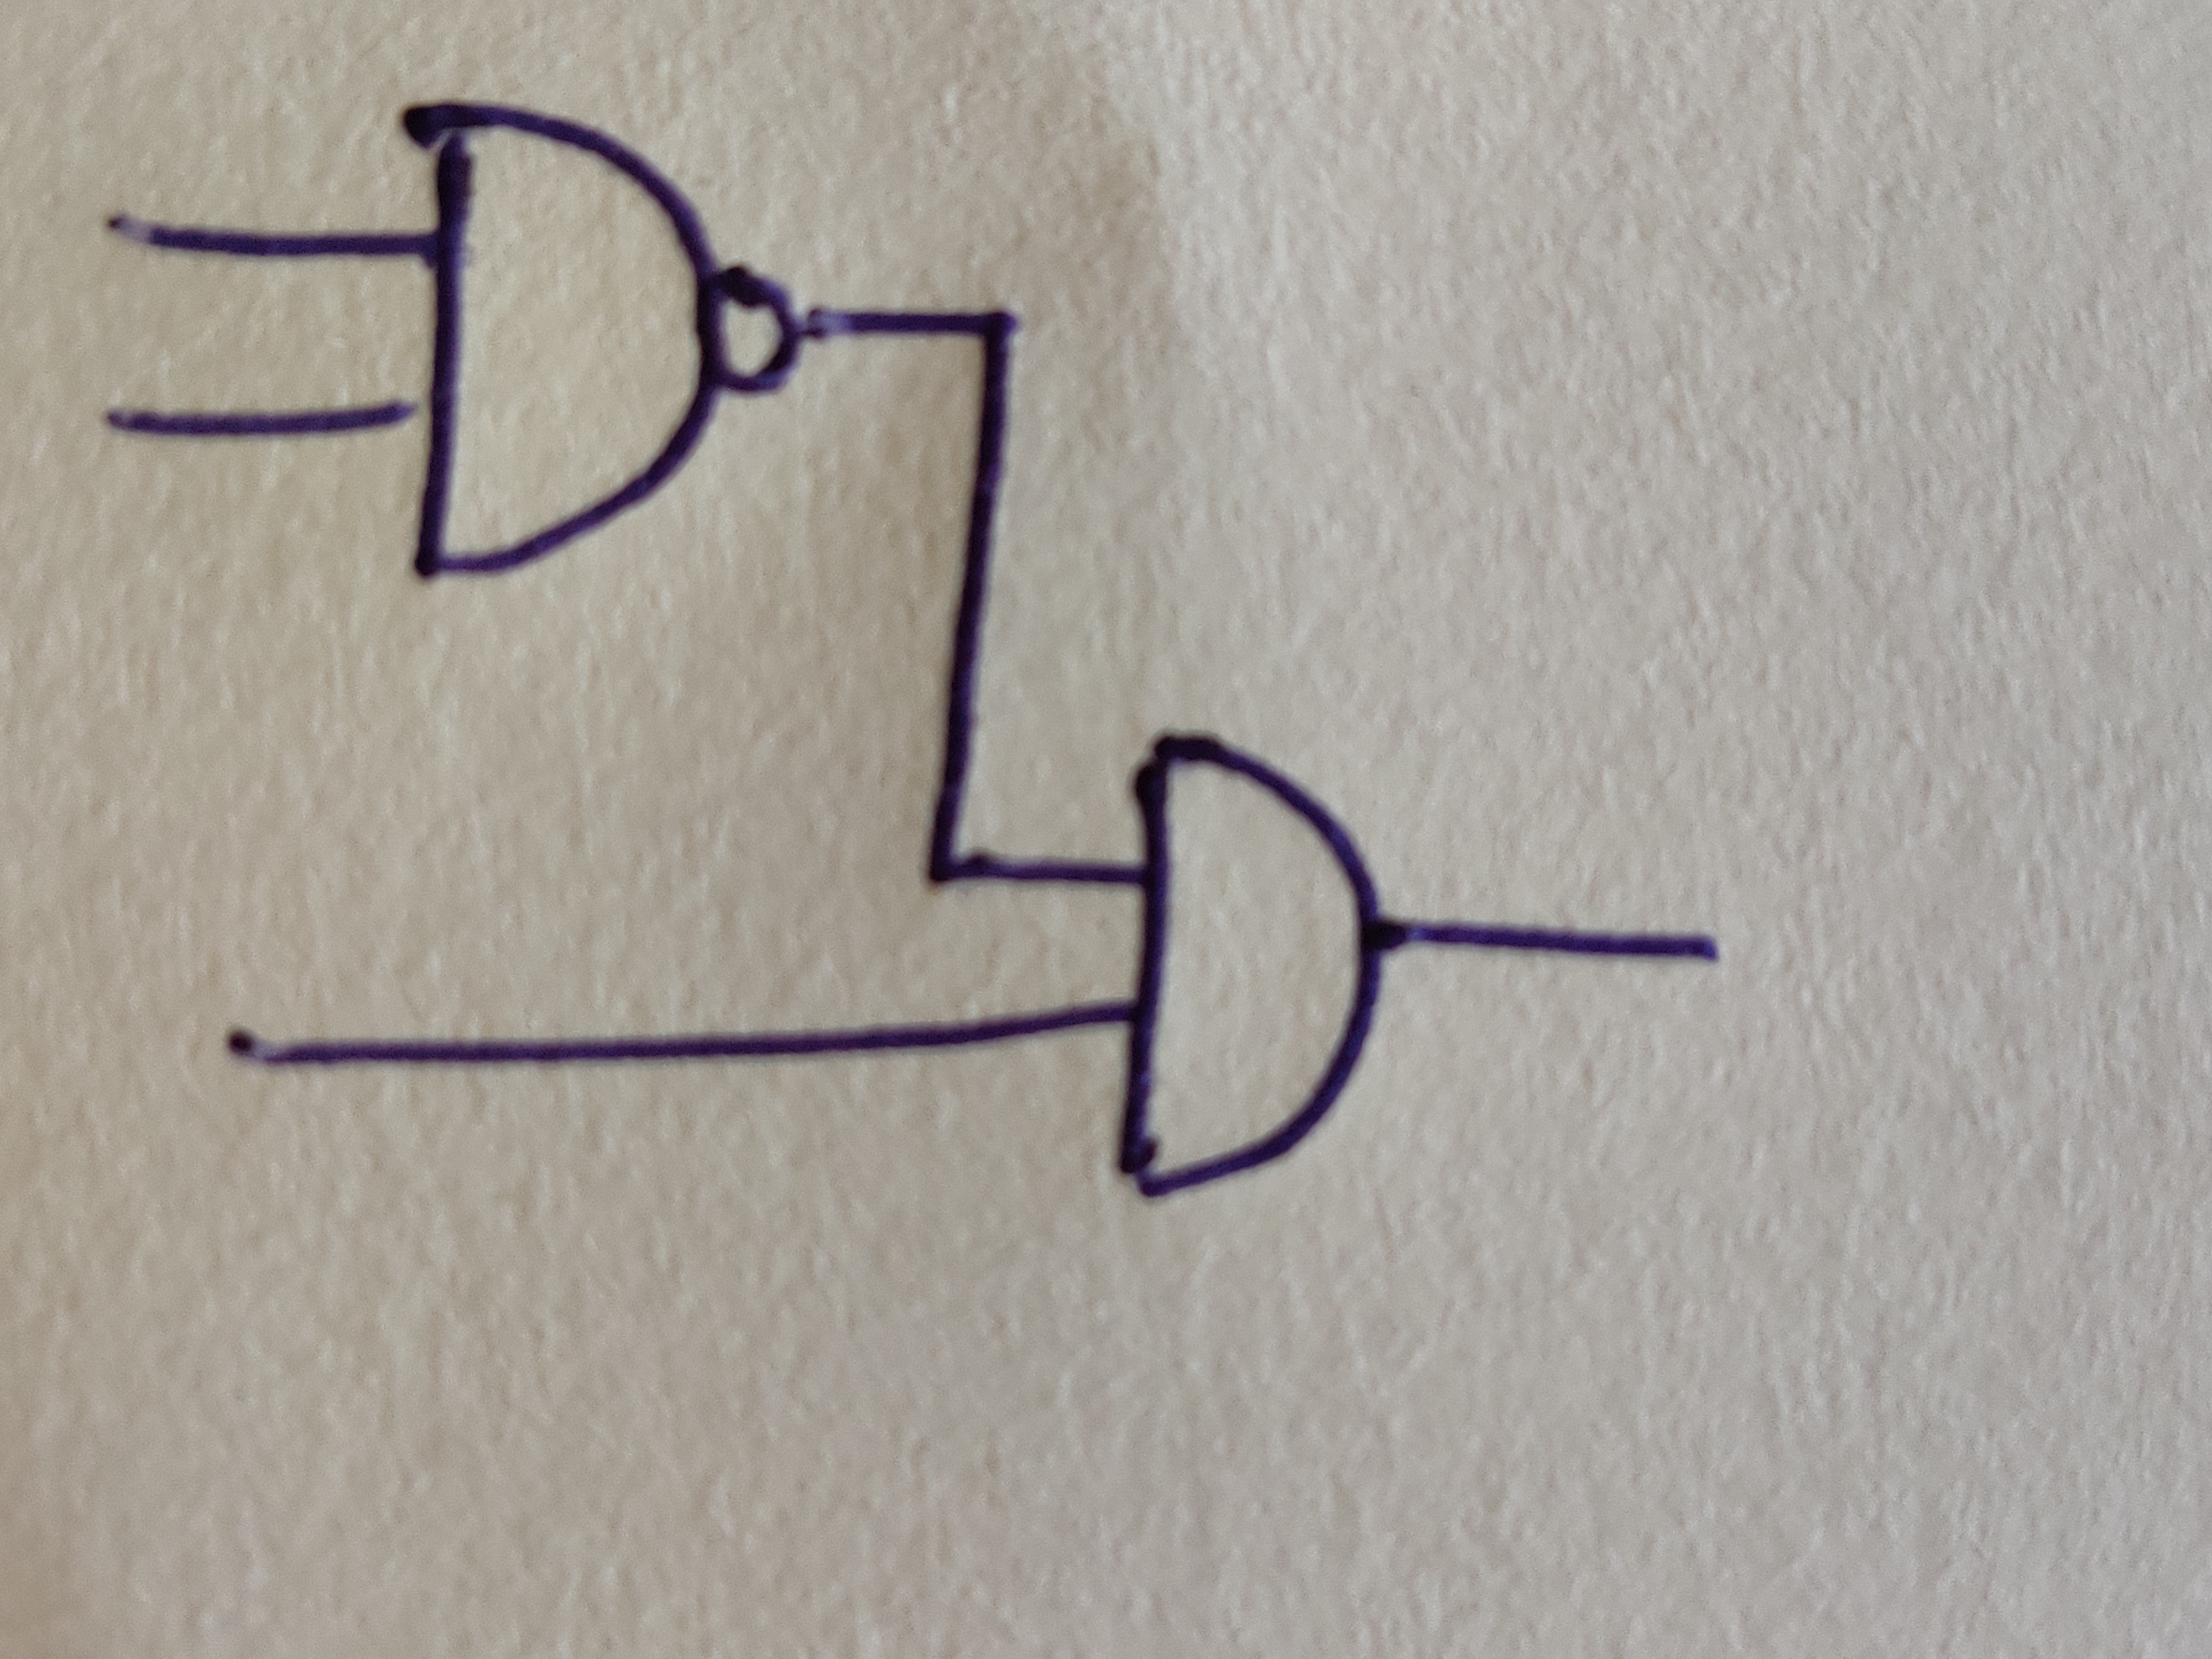and: (402, 101, 725, 580), (1122, 732, 1383, 1199)
not: (714, 263, 799, 394)
